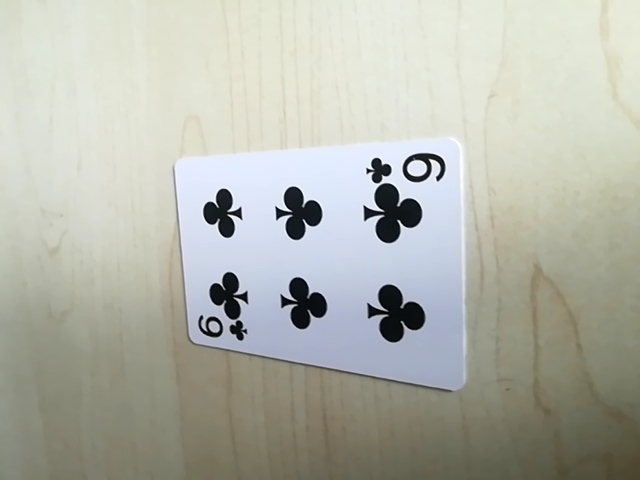mh 6: (362, 149, 450, 185), (190, 315, 249, 346)
